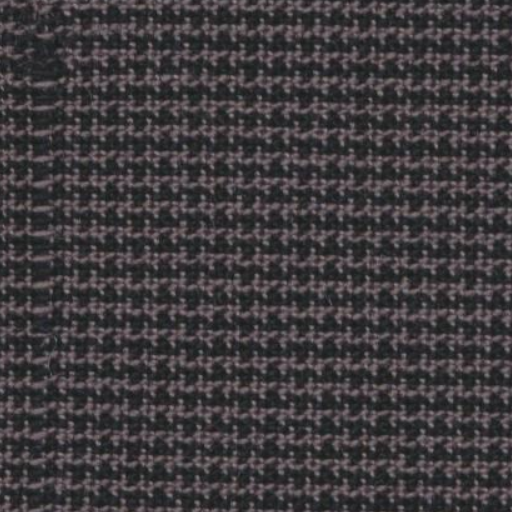DaiSha: (20, 3, 72, 378)
